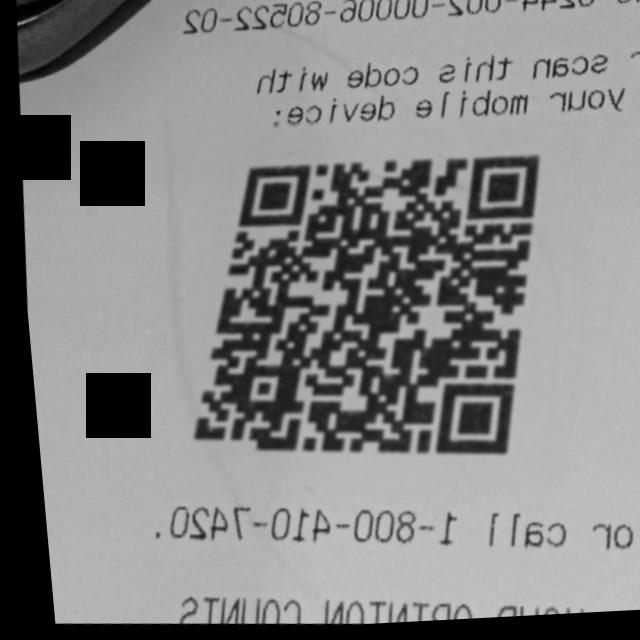QR_CODE: (139, 108, 577, 507)
